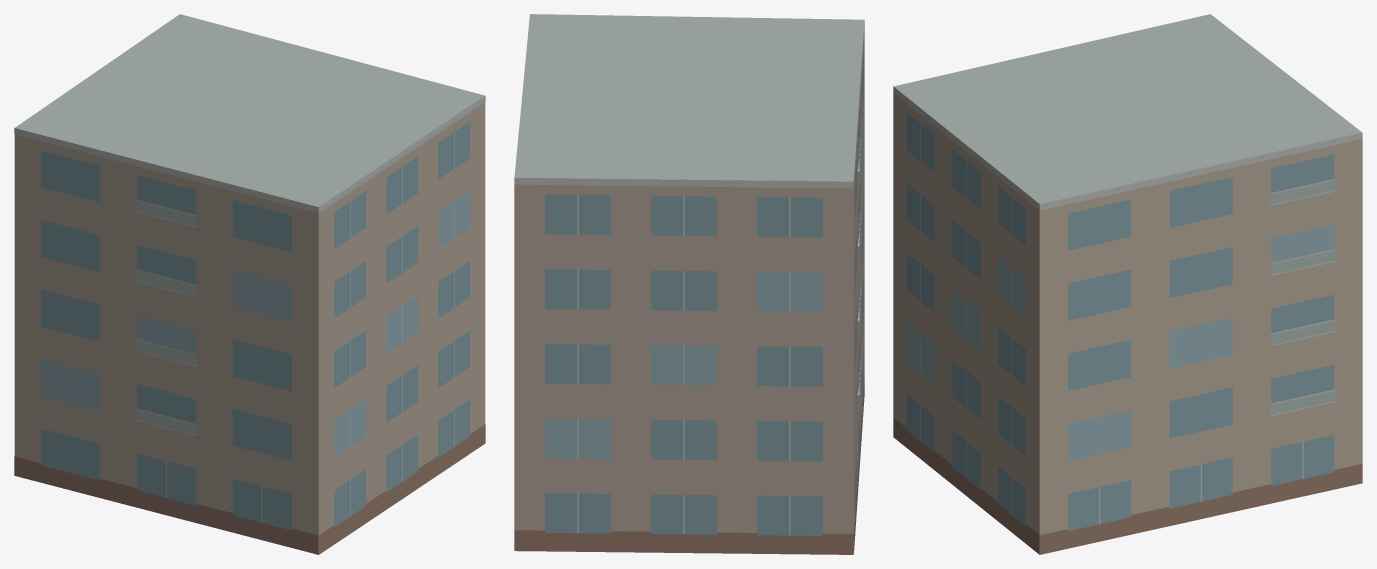
The model's file is survey-upis-32887566.glb.
3 views of the same model, side by side, from view 1: azimuth 30°, elevation 25°; view 2: azimuth 150°, elevation 25°; view 3: azimuth 270°, elevation 25° (orthographic). The views are drawn at different scales.
Visible parts, largest first — view 1: survey-upis-32887566.tmp; view 2: survey-upis-32887566.tmp; view 3: survey-upis-32887566.tmp.
Part boxes in pixels (x1,y1,x2,y2): survey-upis-32887566.tmp: (14, 14, 485, 554); survey-upis-32887566.tmp: (514, 14, 864, 554); survey-upis-32887566.tmp: (893, 14, 1362, 554).
Bounding box in the file's own units: 15.47 × 13.3 × 16.13.
